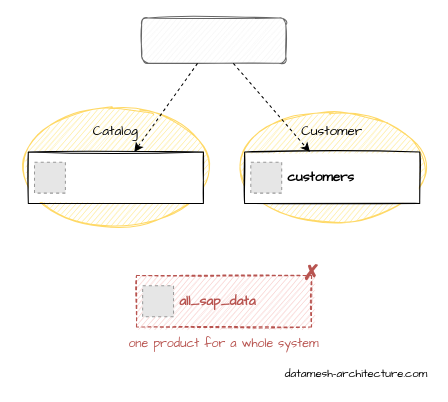
Image size: 448x402. Some labels were removed from this diagram. Grey dashed boxes stand in for pictures. The shapes that lost their labels are listed below. From the top down, each one's box as (x1, y1, x2, y2) in pixels, then its label:
(141, 17, 286, 63): SAP
(27, 151, 203, 203): product_catalog
